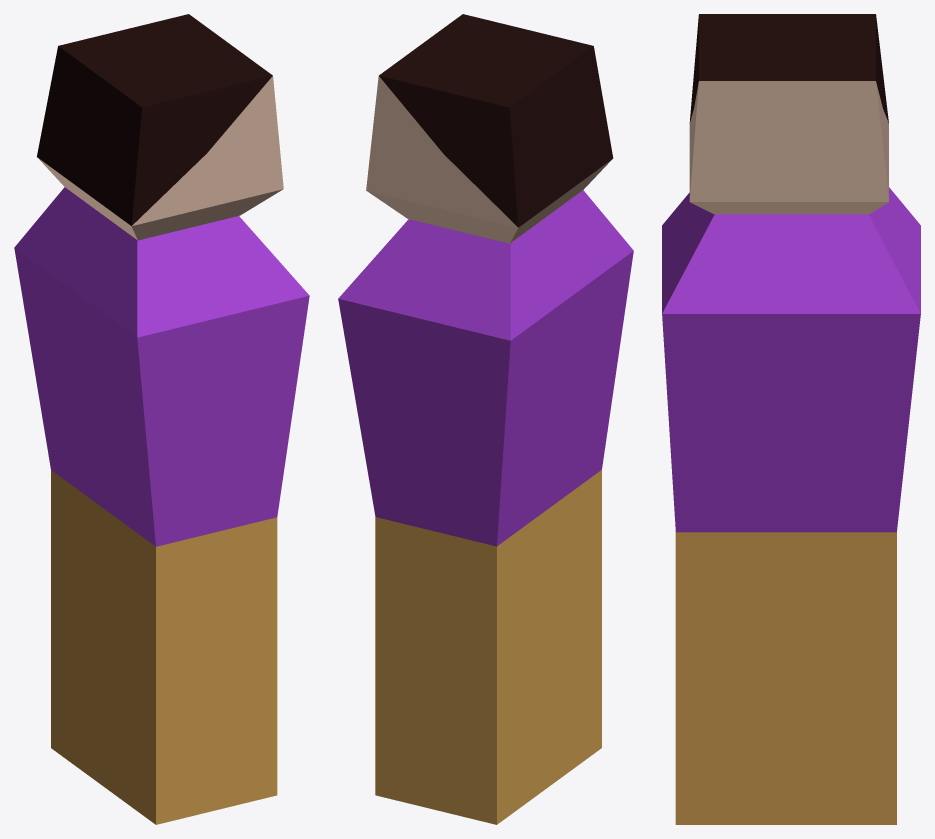
File: person4.gltf
3 renders of one model, left to right at view 1: azimuth 30°, elevation 25°; view 2: azimuth 150°, elevation 25°; view 3: azimuth 270°, elevation 25°, orthographic. The views are drawn at different scales.
Parts seen in each view (by area): view 1: cube; view 2: cube; view 3: cube.
Boxes of the visible parts, left/top/right/bottom form: cube: left=14, top=14, right=309, bottom=824; cube: left=338, top=14, right=633, bottom=824; cube: left=662, top=14, right=920, bottom=824.
Size of the model in its own units: 0.5687 by 2.24 by 0.7027.
1 material, 1 textured.
